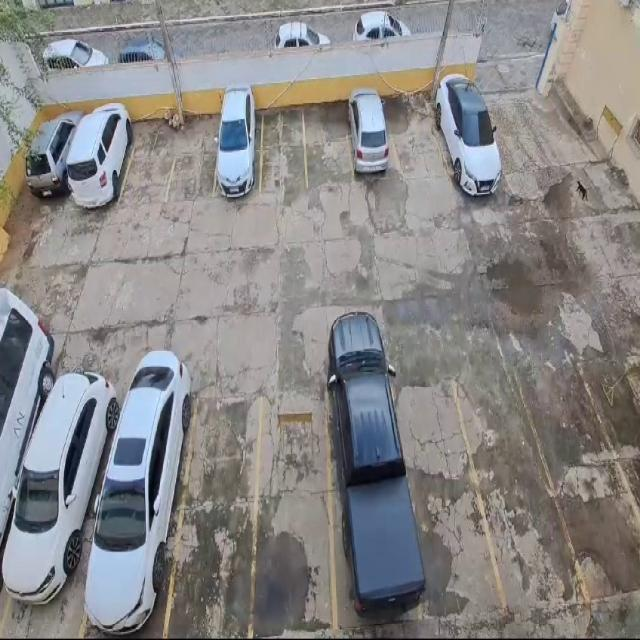empty: (454, 373, 588, 607), (515, 364, 639, 598), (390, 382, 504, 619), (164, 399, 263, 638), (251, 394, 335, 639), (383, 96, 450, 185), (116, 118, 181, 206), (166, 114, 220, 201), (303, 104, 353, 188), (260, 108, 306, 190)
notEmpty: (1, 400, 125, 637), (81, 400, 197, 635), (327, 385, 422, 625), (425, 92, 504, 183), (70, 121, 137, 210), (35, 121, 87, 208), (344, 98, 398, 181), (214, 109, 263, 193)
